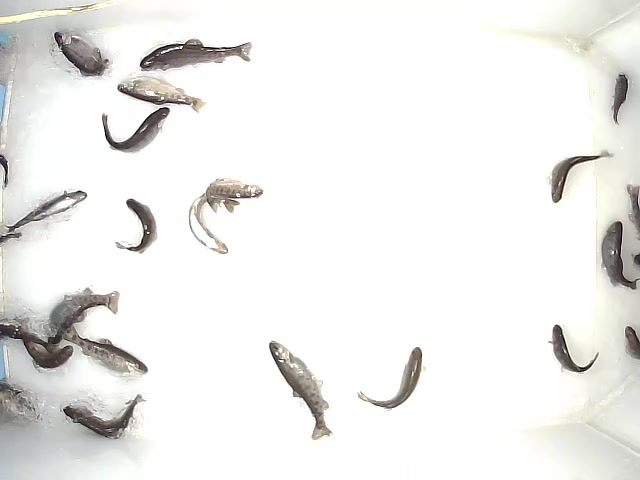fish: (261, 336, 336, 441), (355, 347, 423, 410), (63, 389, 147, 438), (116, 72, 208, 115), (65, 327, 149, 374), (48, 286, 123, 338), (5, 188, 89, 234), (138, 38, 255, 71), (547, 147, 614, 204), (101, 102, 171, 155), (50, 27, 110, 77), (8, 328, 74, 373), (188, 188, 231, 257), (544, 322, 600, 373), (113, 194, 159, 254), (200, 177, 265, 213), (608, 69, 629, 126)
